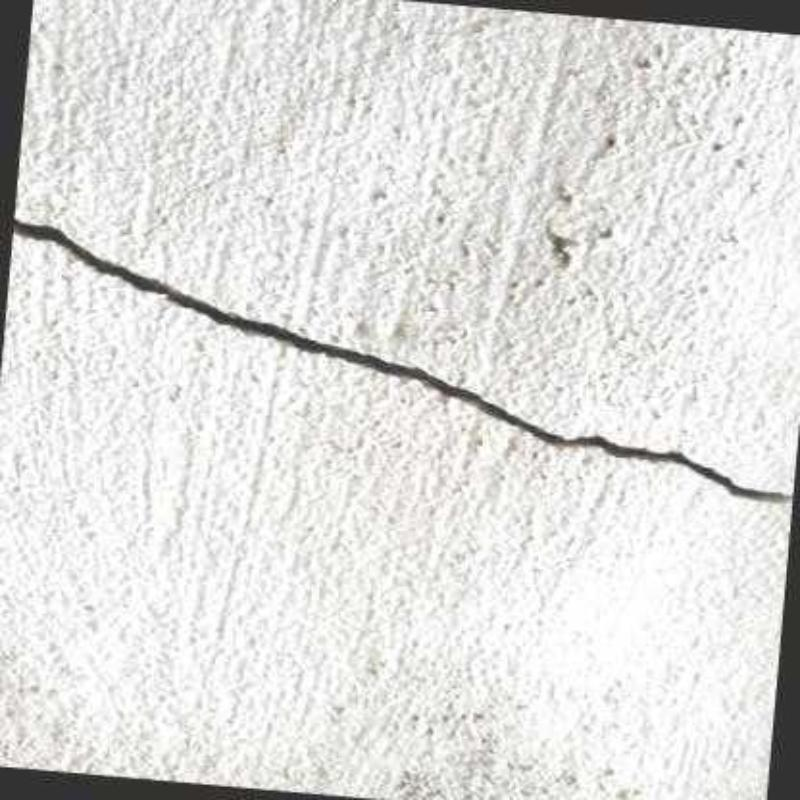pothole: (12, 218, 793, 503)
